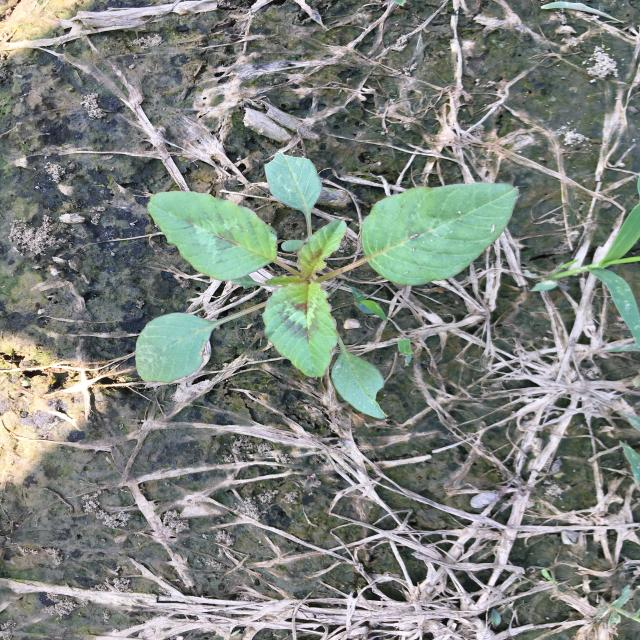PalmerAmaranth: (135, 148, 521, 420)
